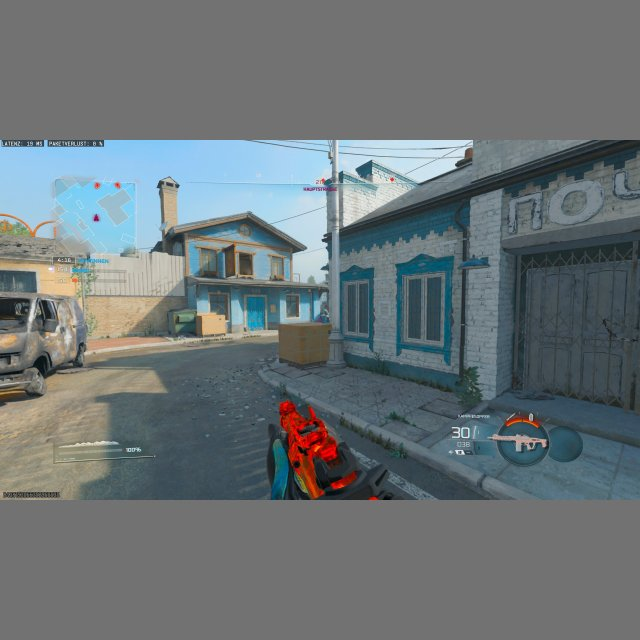player: (317, 310, 330, 323)
